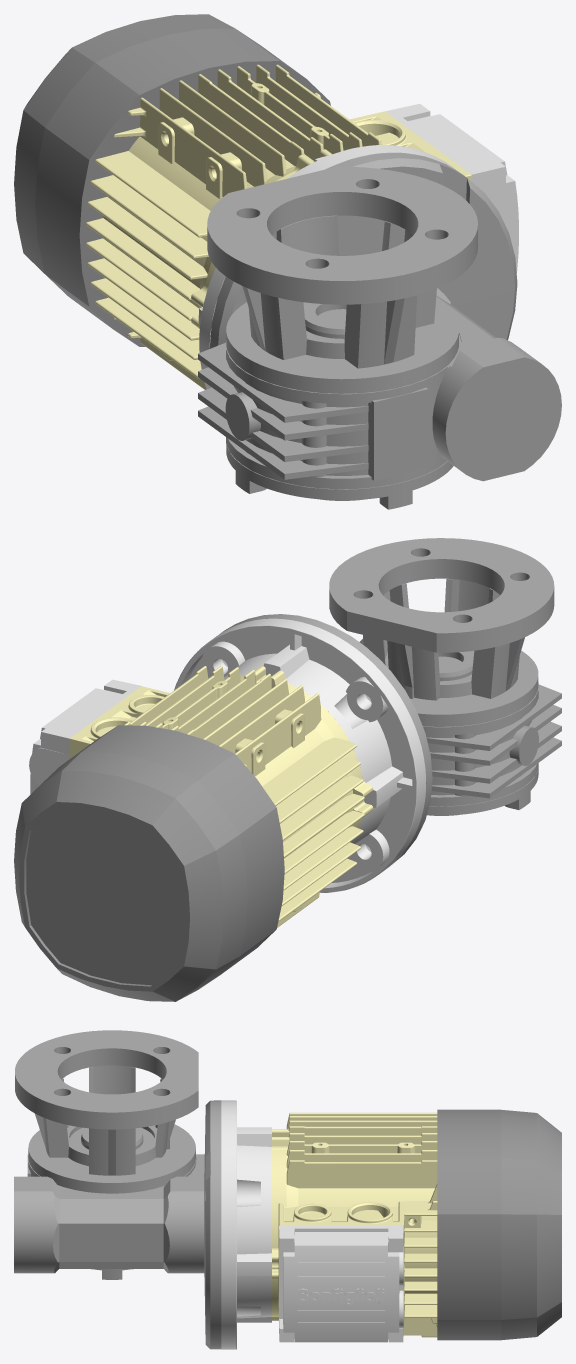
Rendered from MOTOR ASSY.fbx.
3 renders of one model, top to bottom at view 1: azimuth 30°, elevation 25°; view 2: azimuth 150°, elevation 25°; view 3: azimuth 270°, elevation 25°, orthographic. The views are drawn at different scales.
Visible parts, largest first — view 1: MOTOR ASSY; view 2: MOTOR ASSY; view 3: MOTOR ASSY.
Part boxes in pixels (bbox=[...]): MOTOR ASSY: bbox=[14, 14, 561, 509]; MOTOR ASSY: bbox=[14, 538, 561, 1001]; MOTOR ASSY: bbox=[14, 1030, 561, 1349].
Size of the model in its own units: 220 by 166 by 352.
